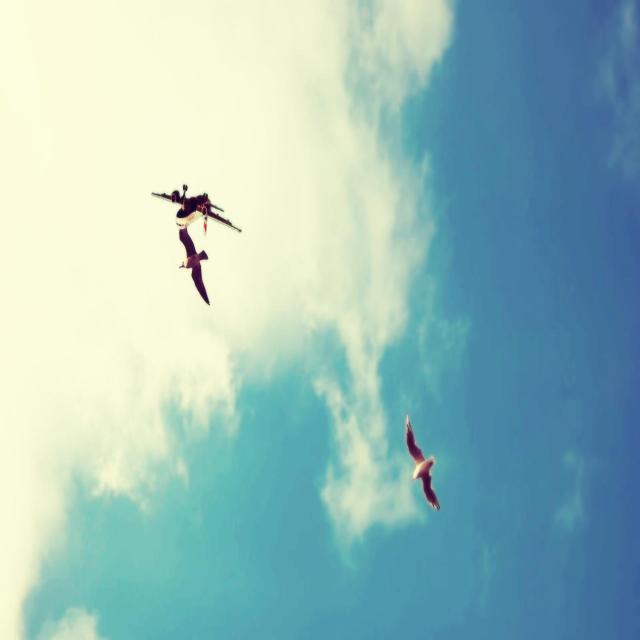airplane: (151, 183, 242, 236)
